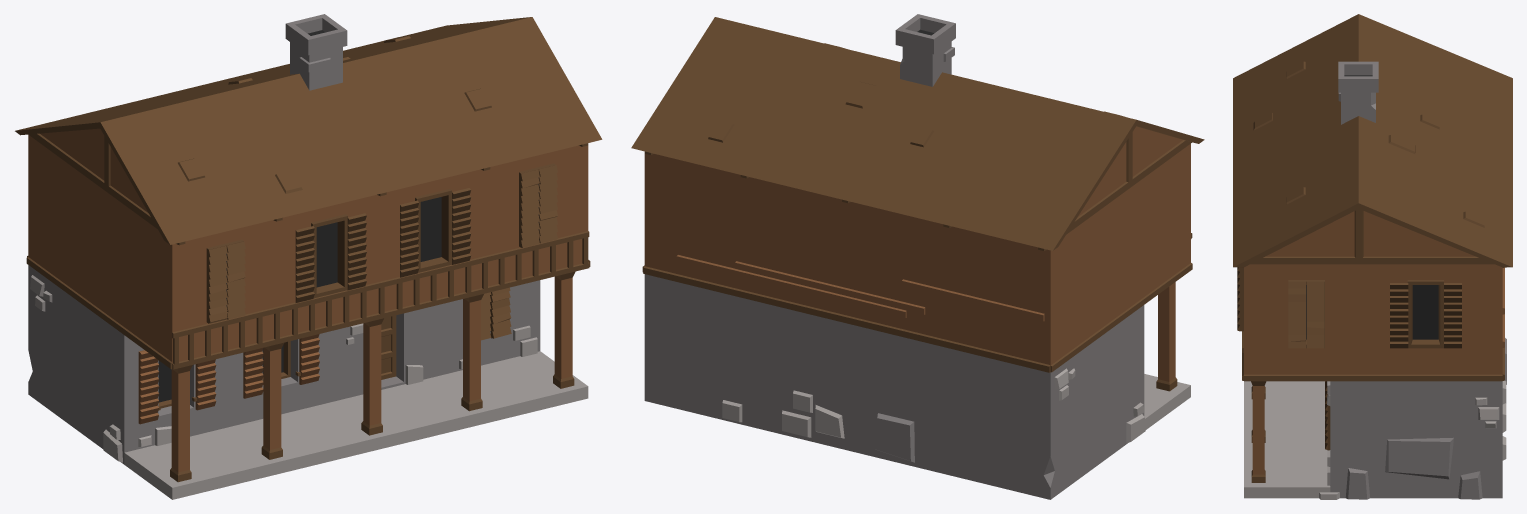
Rendered from pirates_house-pirate-medium.fbx.
3 views of the same model, side by side, from view 1: azimuth 30°, elevation 25°; view 2: azimuth 150°, elevation 25°; view 3: azimuth 270°, elevation 25° (orthographic). The views are drawn at different scales.
Parts seen in each view (by area): view 1: pirates_house_pirate_medium; view 2: pirates_house_pirate_medium; view 3: pirates_house_pirate_medium.
Part boxes in pixels (x1,y1,x2,y2): pirates_house_pirate_medium: [15, 14, 602, 499]; pirates_house_pirate_medium: [631, 14, 1204, 499]; pirates_house_pirate_medium: [1233, 14, 1512, 499].
Size of the model in its own units: 200 by 166 by 125.
